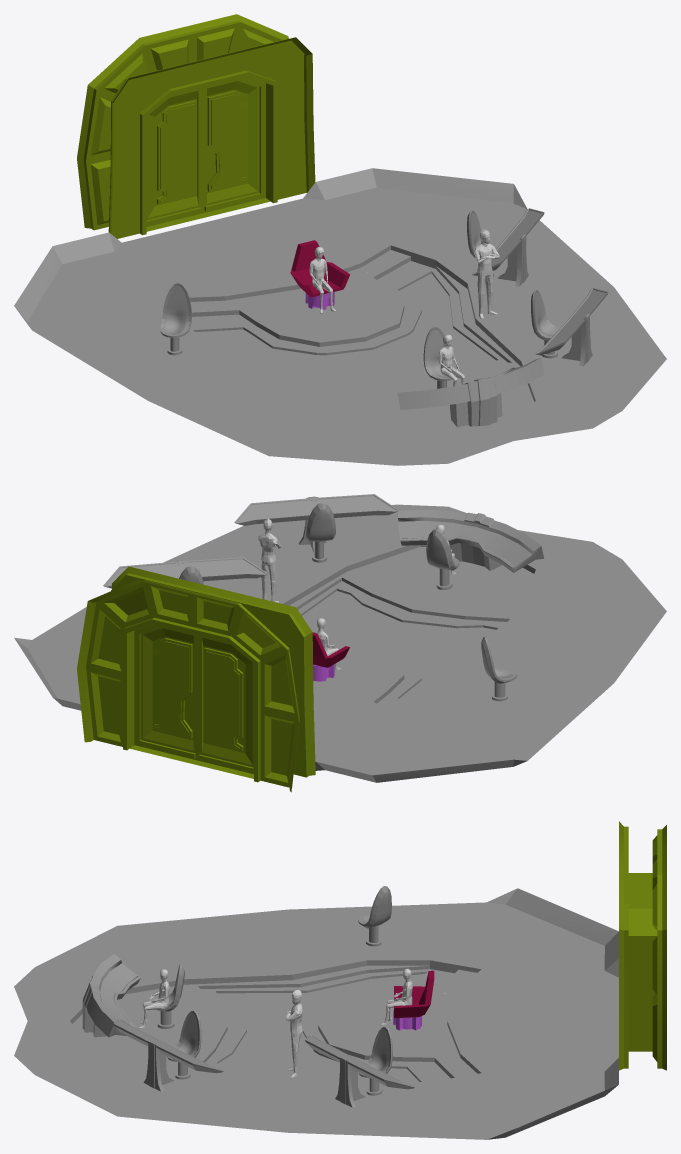
The model's file is CrewMesh.obj.
The picture shows the model from 3 angles, top to bottom: view 1: azimuth 30°, elevation 25°; view 2: azimuth 150°, elevation 25°; view 3: azimuth 270°, elevation 25°; orthographic projection.
Visible parts, largest first — view 1: Plane005, Shape006, BigDoor009, Plane013, Plane011, Plane016, Ellipse013, Box004, Mautch004, Ellipse009, Ellipse002, Chase_2 (+1 smaller); view 2: Plane005, Shape006, BigDoor009, Plane013, Plane011, Plane016, Ellipse002, Ellipse009, Mautch004, Ellipse013, Box004; view 3: Plane005, Shape006, Plane013, Plane011, Plane016, BigDoor009, Ellipse012, Ellipse002, Ellipse013, Box004, Mautch004, Ellipse009 (+2 smaller).
Part boxes in pixels (x1=…): Plane005: x1=14, y1=168, x2=666, y2=465; Shape006: x1=77, y1=14, x2=315, y2=238; BigDoor009: x1=146, y1=77, x2=265, y2=226; Plane013: x1=397, y1=358, x2=544, y2=427; Plane011: x1=535, y1=288, x2=608, y2=366; Plane016: x1=471, y1=208, x2=544, y2=286; Ellipse013: x1=160, y1=283, x2=191, y2=355; Box004: x1=290, y1=240, x2=349, y2=297; Mautch004: x1=474, y1=229, x2=499, y2=318; Ellipse009: x1=423, y1=327, x2=456, y2=388; Ellipse002: x1=531, y1=290, x2=559, y2=358; Chase_2: x1=309, y1=246, x2=336, y2=313; Plane005: x1=14, y1=504, x2=666, y2=782; Shape006: x1=77, y1=566, x2=315, y2=792; BigDoor009: x1=134, y1=624, x2=253, y2=774; Plane013: x1=397, y1=509, x2=544, y2=572; Plane011: x1=234, y1=494, x2=398, y2=553; Plane016: x1=103, y1=557, x2=267, y2=588; Ellipse002: x1=305, y1=502, x2=335, y2=562; Ellipse009: x1=426, y1=529, x2=459, y2=589; Mautch004: x1=258, y1=518, x2=281, y2=602; Ellipse013: x1=481, y1=636, x2=517, y2=701; Box004: x1=312, y1=632, x2=349, y2=667; Plane005: x1=14, y1=888, x2=618, y2=1139; Shape006: x1=619, y1=821, x2=666, y2=1070; Plane013: x1=82, y1=954, x2=140, y2=1037; Plane011: x1=113, y1=1018, x2=223, y2=1091; Plane016: x1=305, y1=1034, x2=414, y2=1107; BigDoor009: x1=638, y1=873, x2=647, y2=1051; Ellipse012: x1=358, y1=1027, x2=392, y2=1095; Ellipse002: x1=167, y1=1011, x2=201, y2=1079; Ellipse013: x1=358, y1=886, x2=391, y2=946; Box004: x1=394, y1=970, x2=434, y2=1018; Mautch004: x1=286, y1=990, x2=302, y2=1077; Ellipse009: x1=151, y1=964, x2=184, y2=1028.
Size of the model in its own units: 394 by 145 by 454.
